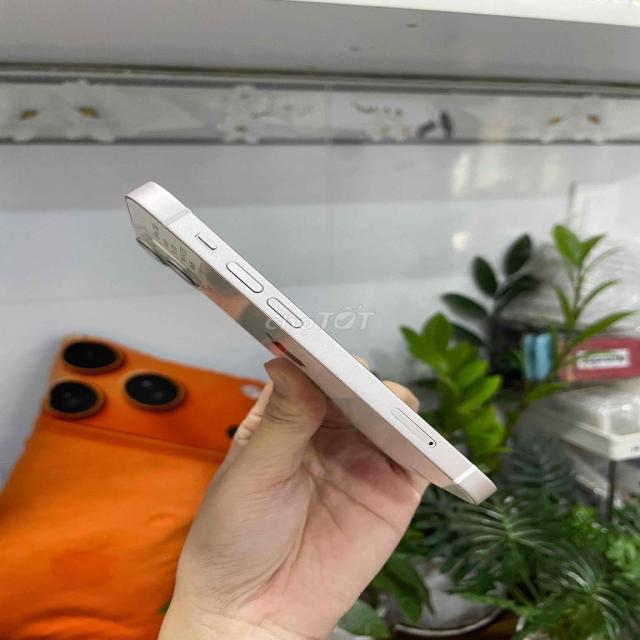gen_12_13: (118, 174, 503, 515)
